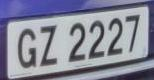2: (66, 18, 88, 68), (87, 16, 107, 62), (106, 14, 126, 59)
7: (124, 11, 142, 57)
G: (16, 24, 39, 75)
Z: (38, 21, 61, 72)
